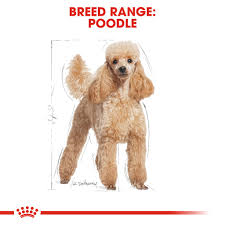Bulldog: (39, 36, 177, 190)
